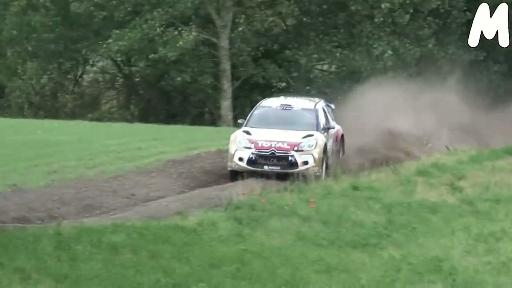CAR: (210, 63, 350, 192)
